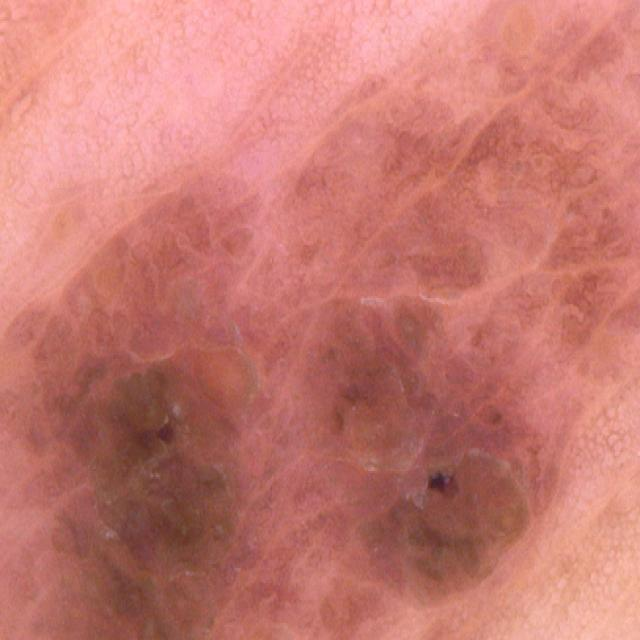Keratosis: (203, 212, 525, 640), (0, 313, 272, 640), (395, 98, 640, 406)
